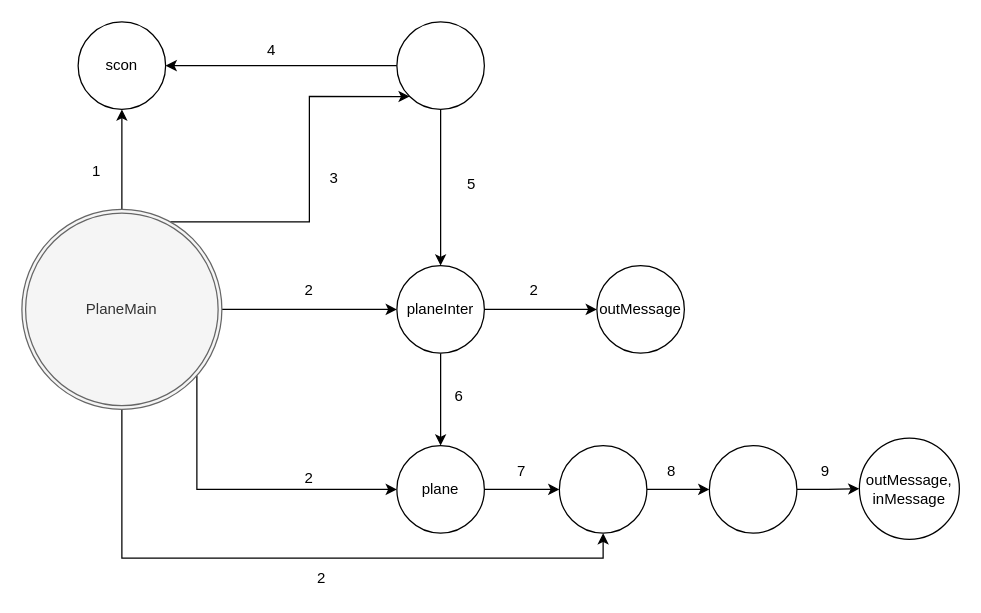
The diagram is 981 pixels wide and 613 high, and some of its shapes have lost their labels. The centre of each missing label's shape, as x and y in pixels:
cliProxy: (x=440, y=65)
com: (x=752, y=488)
repos: (x=602, y=488)
